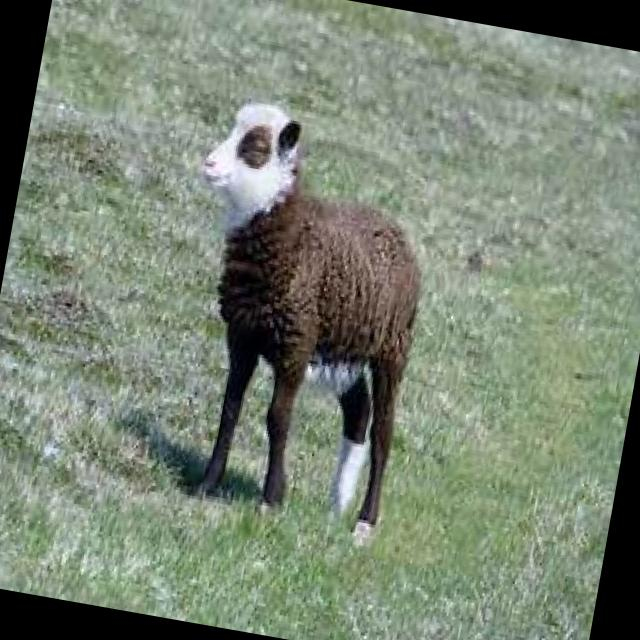sheep: (144, 90, 453, 548)
